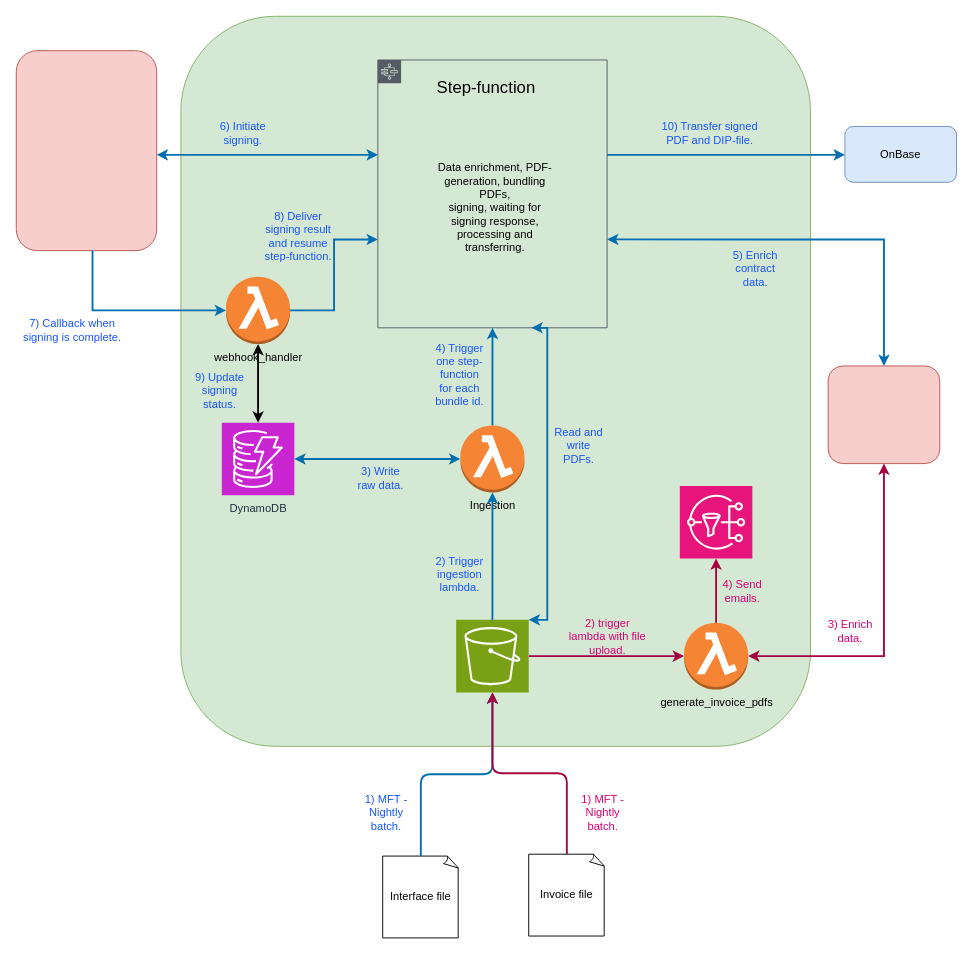
Some shapes in this 973 by 954 pixel diagram are drawn without their labels. Each missing label, with the centre of its shape:
"S3 Storage" belongs at pixel 492 655.
"Signicat API" belongs at pixel 86 150.
"SNS" belongs at pixel 715 521.
"Third party API" belongs at pixel 883 414.
